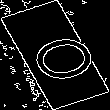O_NE: (12, 25, 98, 85)
